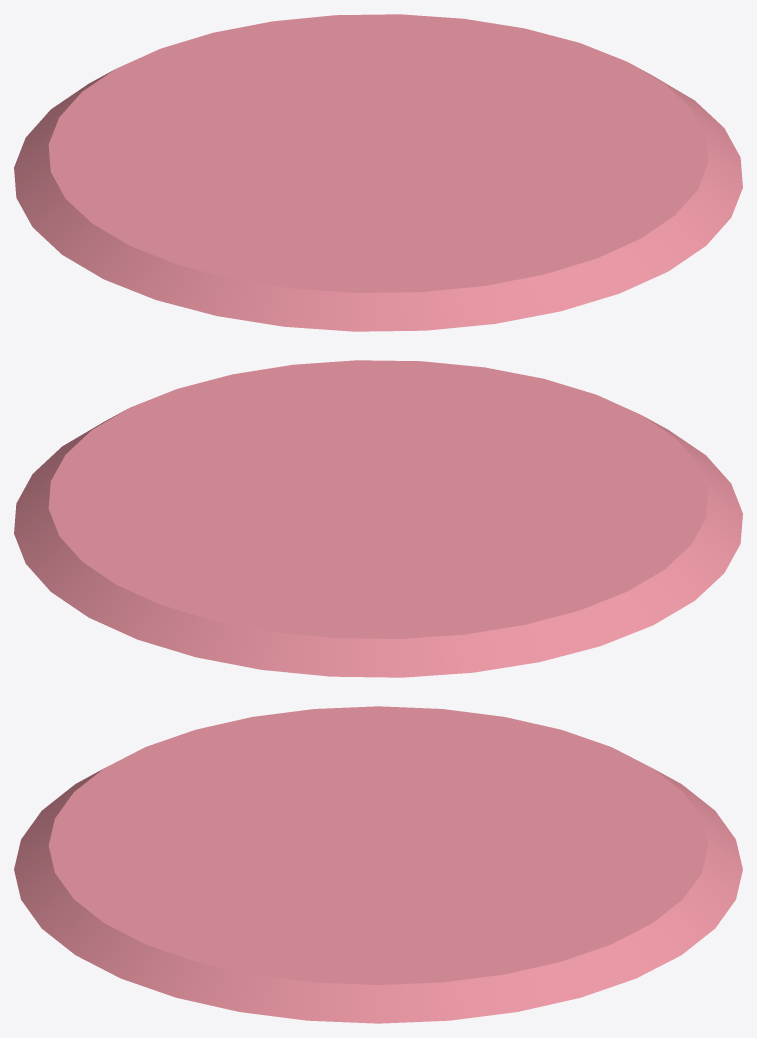
The model's file is fallingStarsLavaPool.fbx.
The picture shows the model from 3 angles, top to bottom: view 1: azimuth 30°, elevation 25°; view 2: azimuth 150°, elevation 25°; view 3: azimuth 270°, elevation 25°; orthographic projection.
Visible parts, largest first — view 1: Cylinder; view 2: Cylinder; view 3: Cylinder.
Part boxes in pixels (box(x1,y1,x2,y2)): Cylinder: box(14, 14, 742, 331); Cylinder: box(14, 360, 742, 677); Cylinder: box(14, 706, 742, 1023).
Bounding box in the file's own units: 867 × 31.39 × 867.
